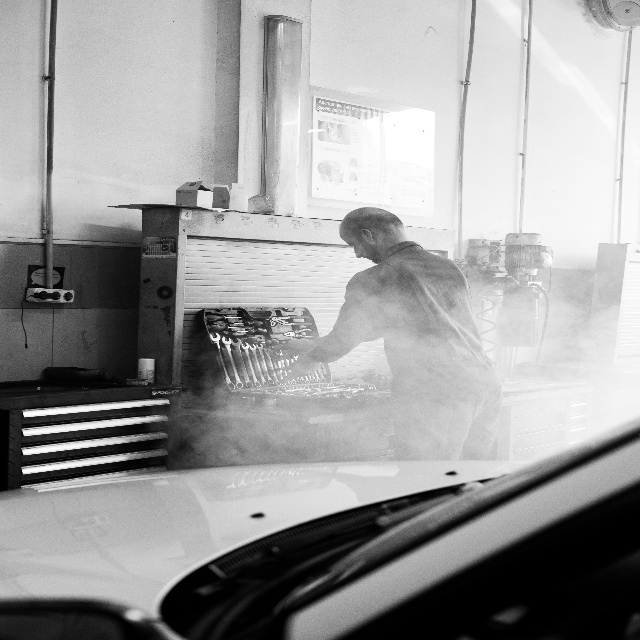Sin_guantes: (279, 355, 321, 381), (274, 338, 315, 360)
